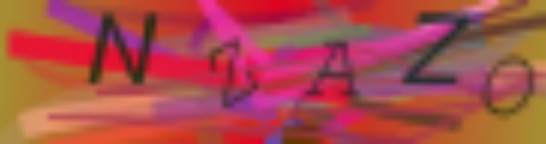A: (304, 38, 365, 100)
N: (83, 10, 163, 90)
O: (480, 52, 537, 121)
Z: (397, 9, 474, 89), (202, 35, 264, 113)
